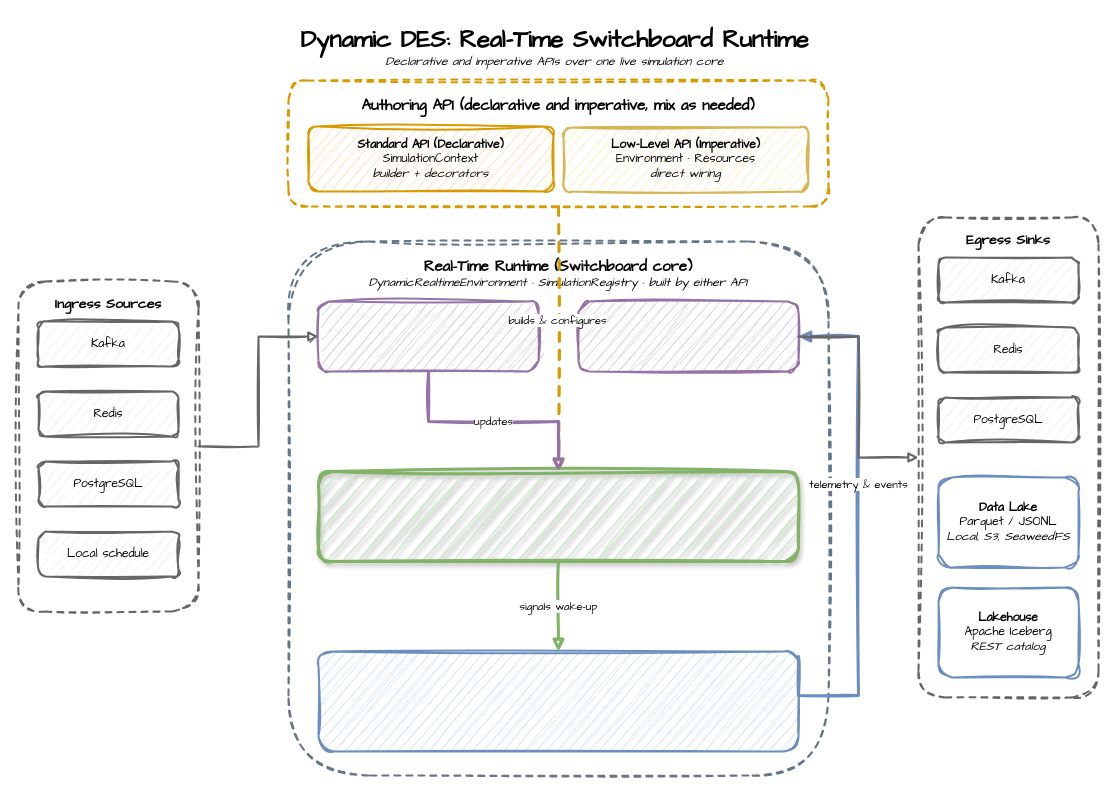
Image size: 1116x793. Some labels were removed from this diagram. The shapes that lost their labels are listed below. From the top down, each one's centre as x and y in pixels, then its label:
At point 428,336: "Ingress Connectors background I/O threads".
At point 688,336: "Egress Connectors Pydantic payloads, orjson, batched".
At point 559,518: "Registry (Switchboard) central state, dot-notation paths".
At point 558,701: "SimPy Resources DynamicResource passive observers, event-driven capacity".
